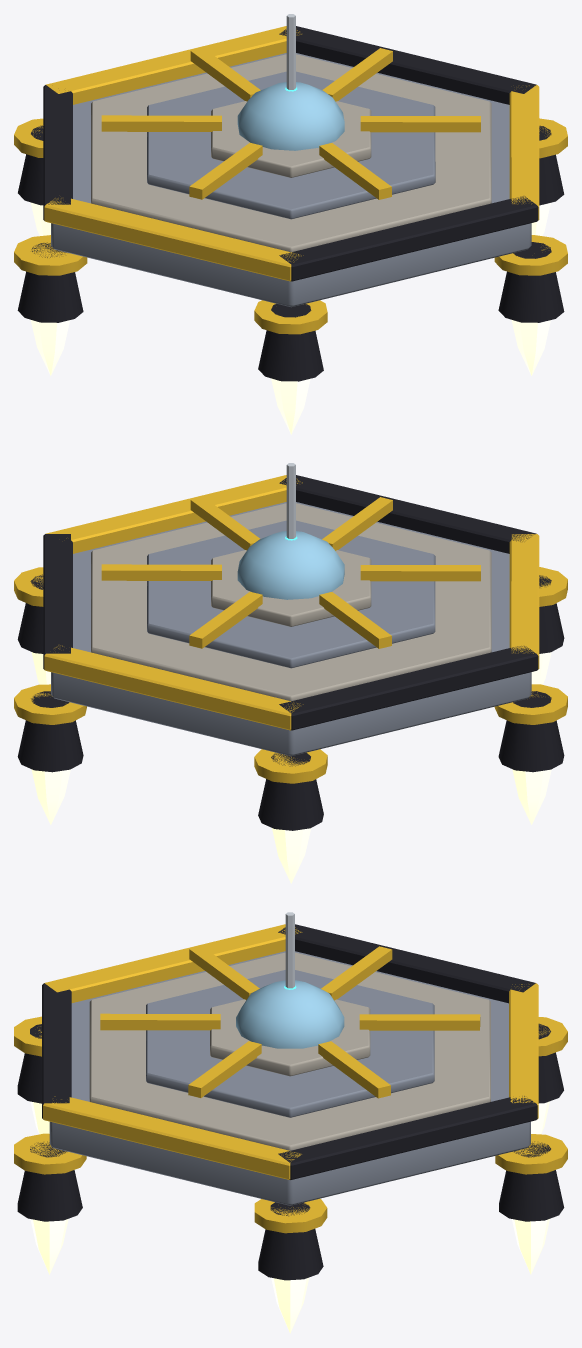
File: aegis_platform.glb
3 renders of one model, top to bottom at view 1: azimuth 30°, elevation 25°; view 2: azimuth 150°, elevation 25°; view 3: azimuth 270°, elevation 25°, orthographic.
Visible parts, largest first — view 1: aegis_platform; view 2: aegis_platform; view 3: aegis_platform.
Boxes of the visible parts, x1,y1,x2,y2 form: aegis_platform: (14, 14, 567, 434); aegis_platform: (14, 463, 567, 883); aegis_platform: (14, 912, 567, 1333).
Size of the model in its own units: 67.92 by 36 by 59.8.
1 material, 1 textured.
